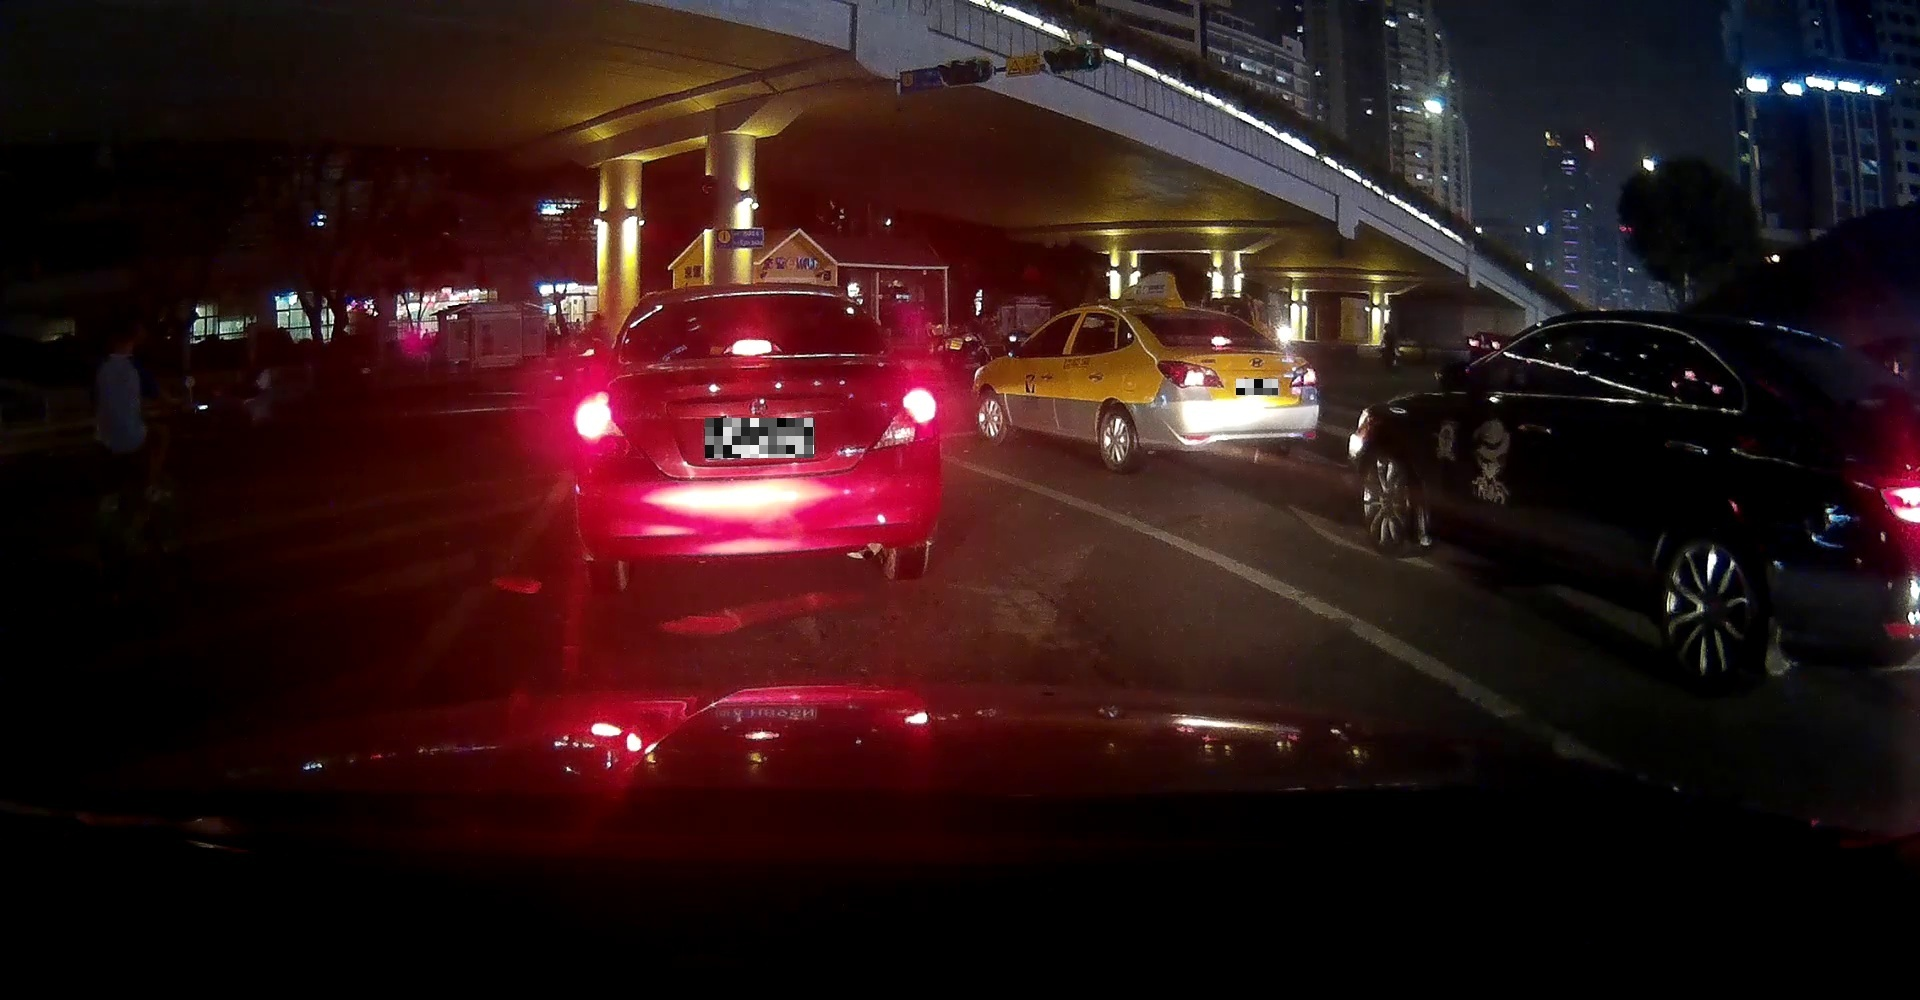L_light: (579, 402, 643, 459), (1157, 360, 1225, 390)
R_light: (874, 388, 935, 448), (1290, 363, 1316, 387)
T_light: (733, 340, 773, 355), (1211, 338, 1232, 346)
night-brake: (575, 286, 942, 590), (1119, 303, 1319, 473)
plate_1: (705, 418, 814, 458)
plate_2: (1236, 379, 1277, 395)
